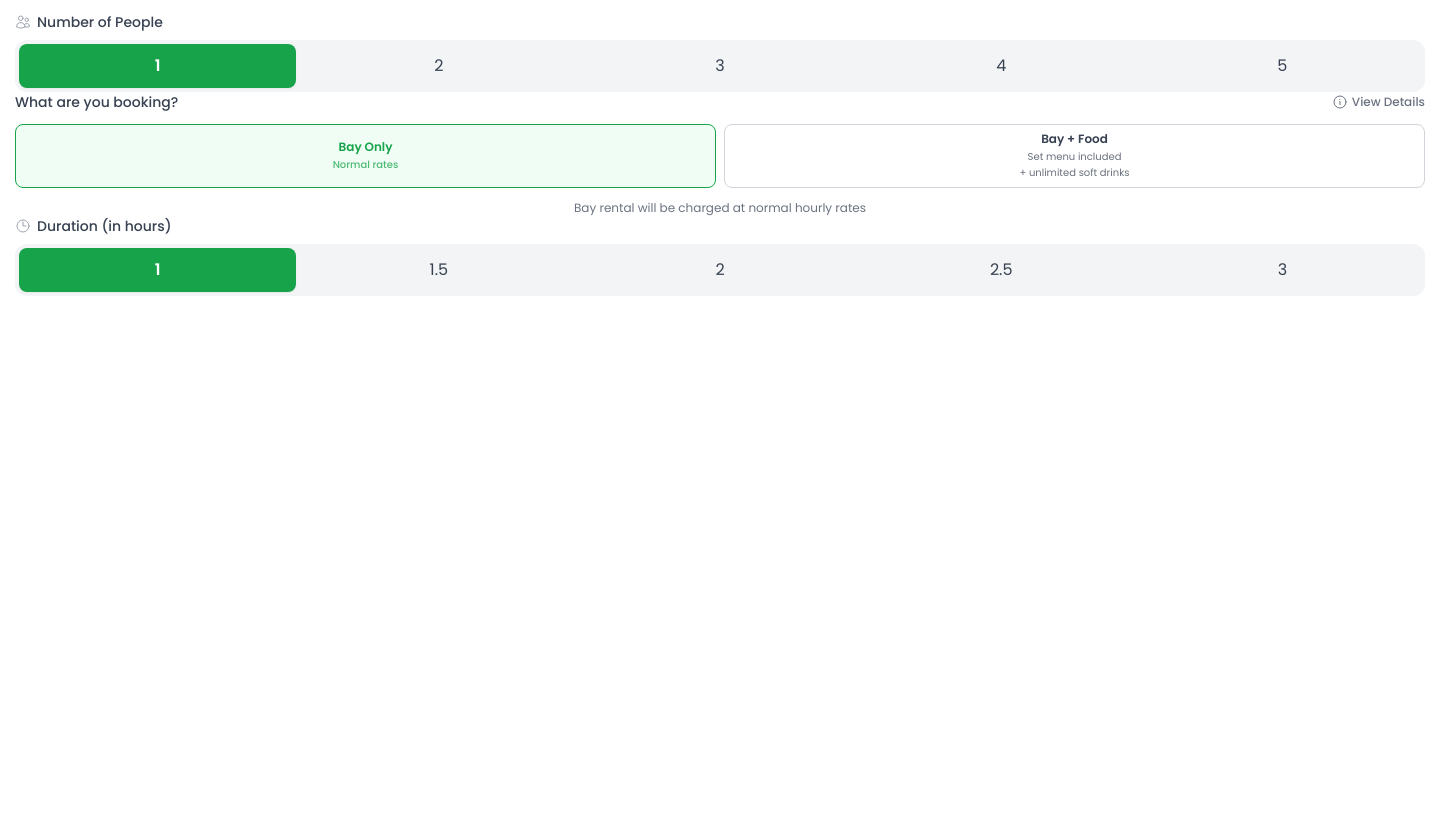
Test: switching to Bay + food › warns that nothing is selected yet, so pricing is still bay only
Click the button "Bay + Food Set menu included + unlimited soft drinks".
click(1074, 156)  # box [724,124,1425,188]
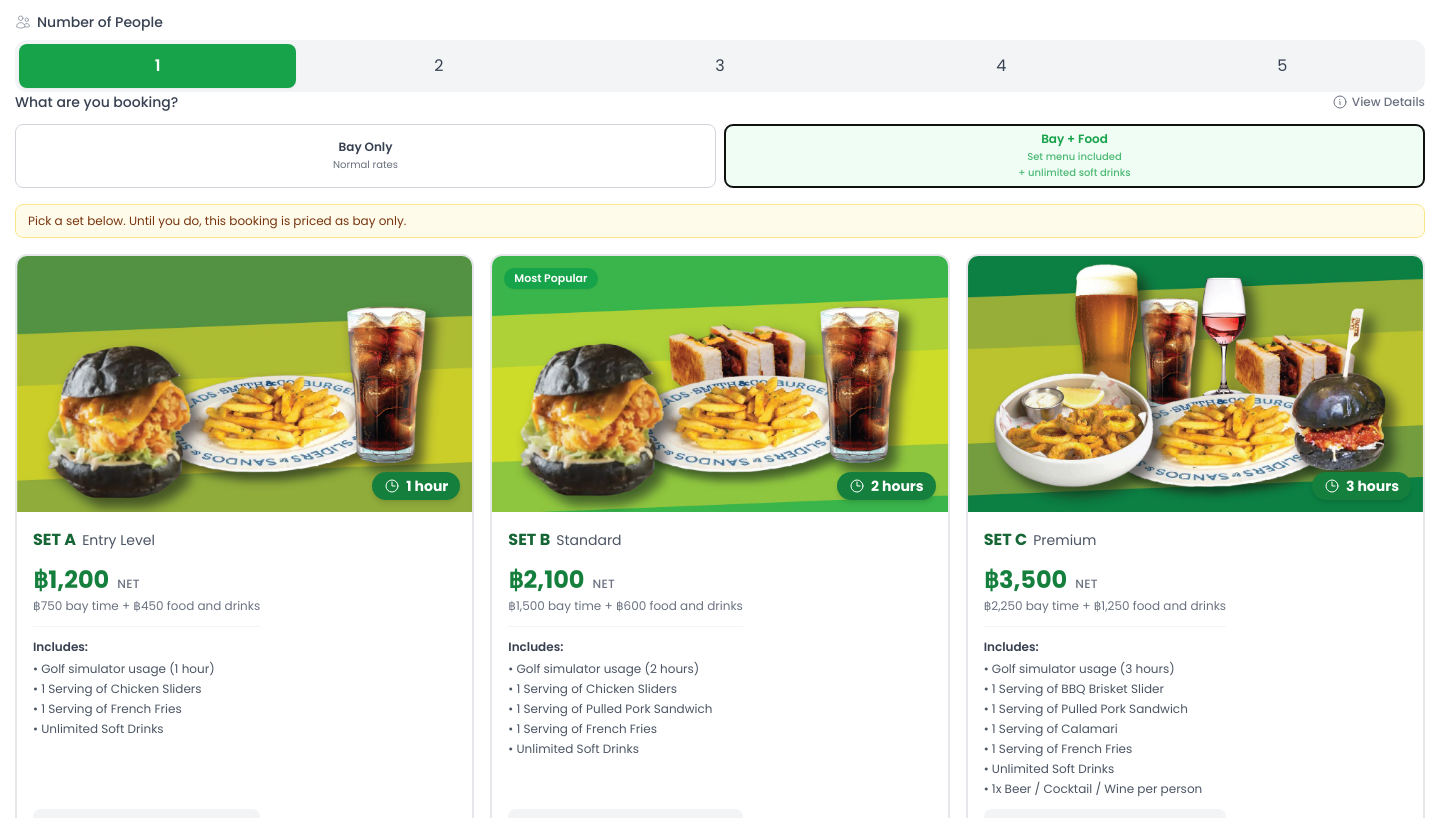
Expected: the text "Pick a set below. Until you do, this booking is priced as bay only." is shown, [15,204,1425,238]
